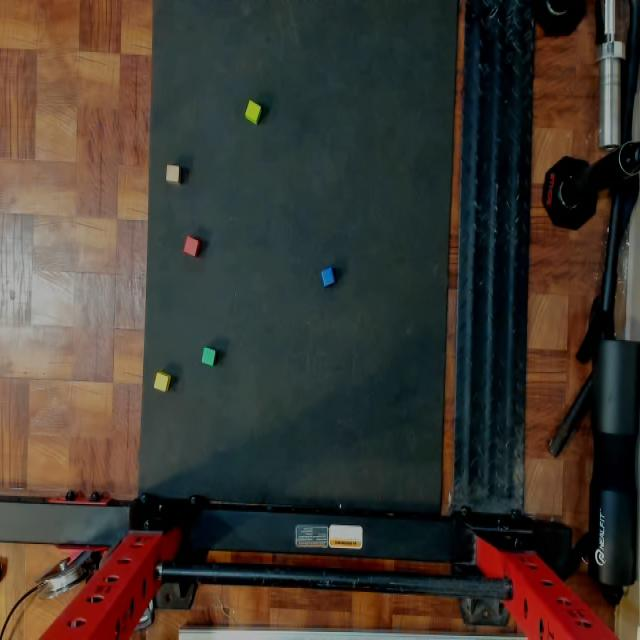block: (153, 370, 170, 395), (246, 100, 261, 124), (183, 237, 200, 256), (201, 347, 216, 365), (166, 164, 180, 183), (322, 267, 335, 287)
